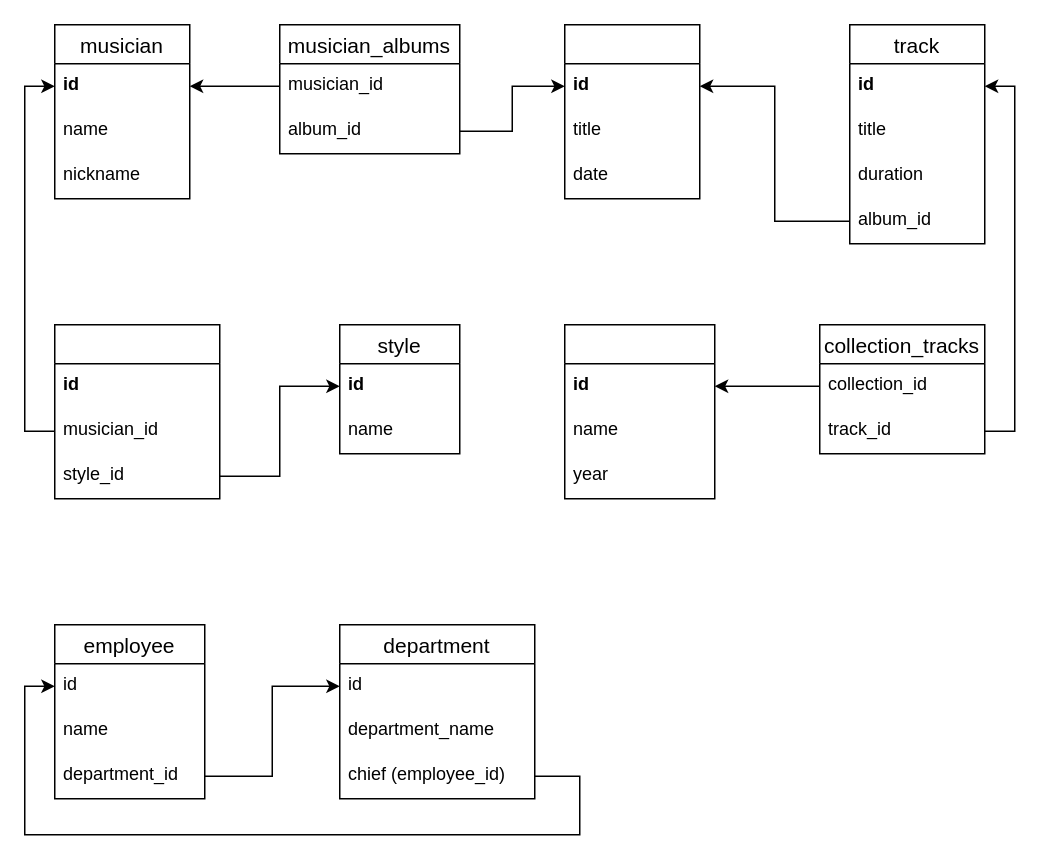
This 1040x860 diagram has some shape labels left out. The shapes that lost their labels are listed below. From the top down, each one's box as (x1, y1, x2, y2) in pixels, then its label:
(563, 23, 700, 199): album
(53, 323, 220, 499): musician_style
(563, 323, 715, 499): collection
